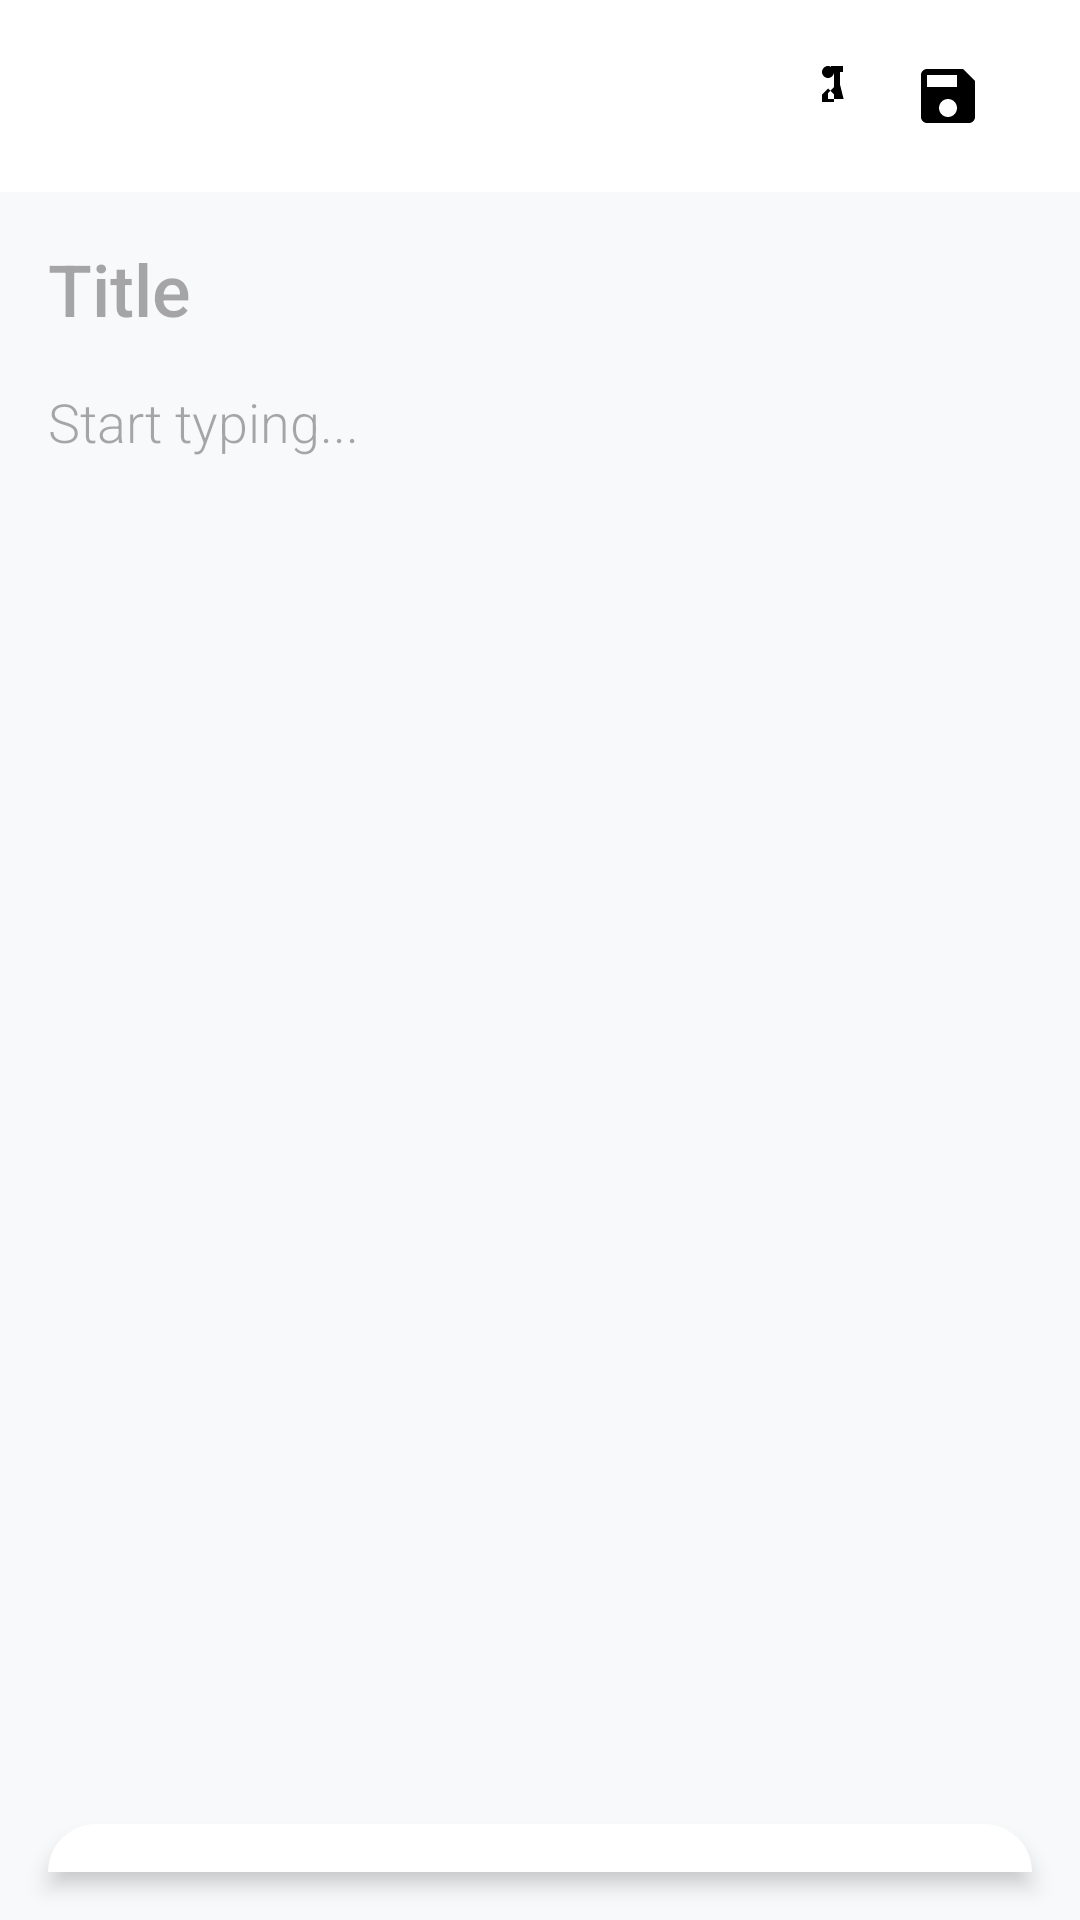

Where icons sit on this 1080px x 1920px app screen, as (x1, y1, x2, y2):
save: (921, 69, 975, 123)
unpinned: (822, 66, 844, 102)
